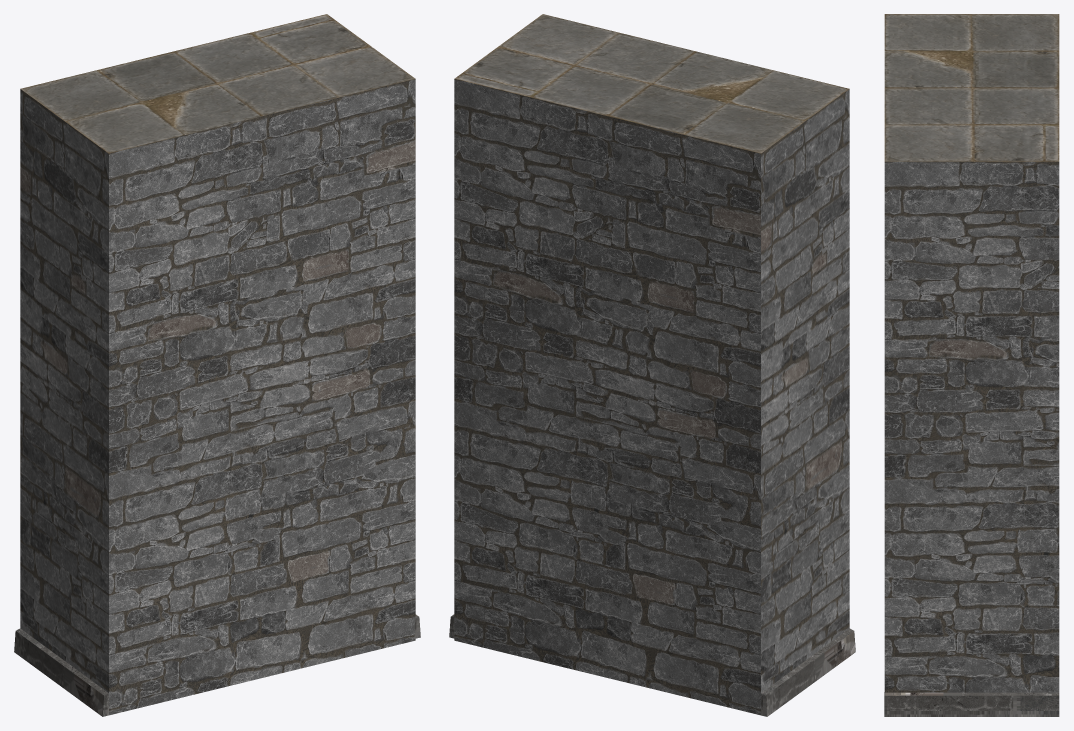
Rendered from MC_Castle_Wall_A_2m.fbx.
The picture shows the model from 3 angles, left to right: view 1: azimuth 30°, elevation 25°; view 2: azimuth 150°, elevation 25°; view 3: azimuth 270°, elevation 25°; orthographic projection.
Parts seen in each view (by area): view 1: MC_Castle_Wall_A_2m; view 2: MC_Castle_Wall_A_2m; view 3: MC_Castle_Wall_A_2m.
Part boxes in pixels (x1=…): MC_Castle_Wall_A_2m: x1=14, y1=14, x2=420, y2=716; MC_Castle_Wall_A_2m: x1=449, y1=14, x2=855, y2=716; MC_Castle_Wall_A_2m: x1=884, y1=14, x2=1059, y2=716.
Bounding box in the file's own units: 415 × 700 × 200.
